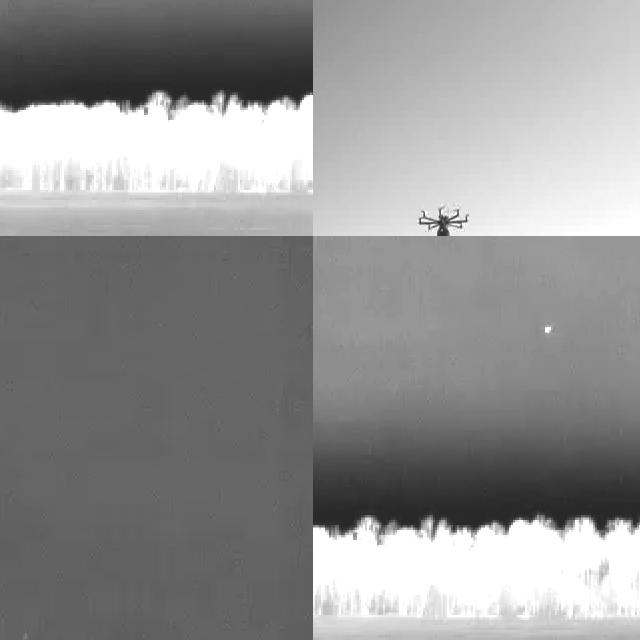0: (15, 623, 43, 640)
1: (539, 320, 565, 345)
drone: (414, 200, 470, 236)
